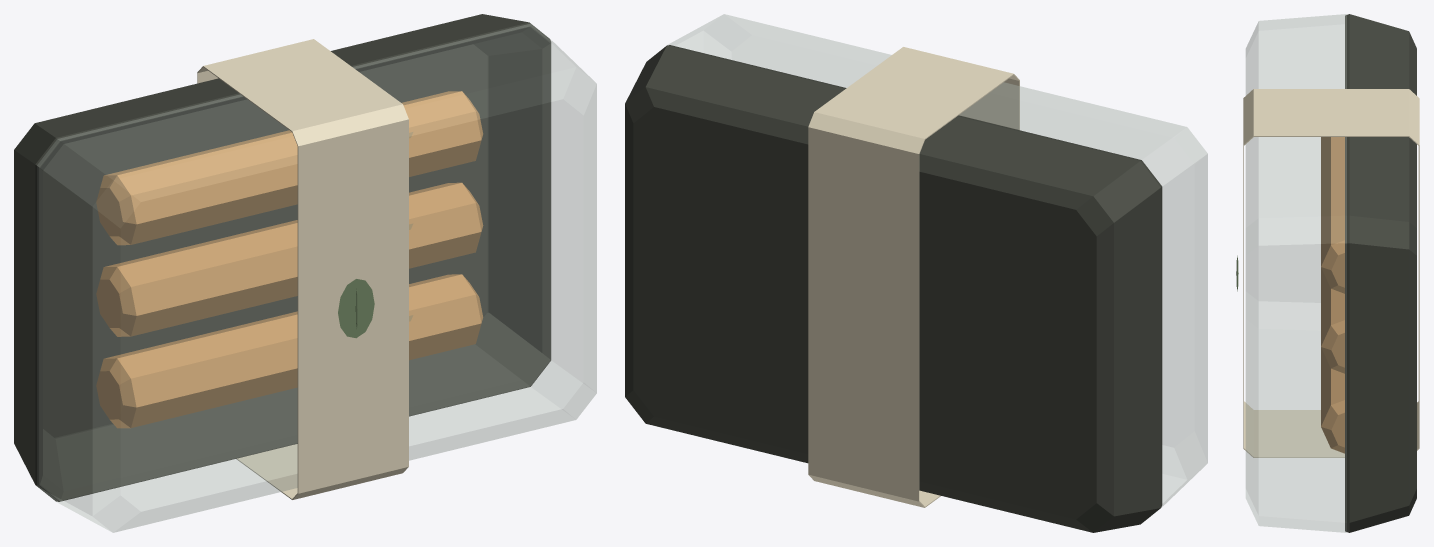
Rendered from spring_rolls.glb.
The picture shows the model from 3 angles, left to right: view 1: azimuth 30°, elevation 25°; view 2: azimuth 150°, elevation 25°; view 3: azimuth 270°, elevation 25°; orthographic projection. The views are drawn at different scales.
Visible parts, largest first — view 1: spring_rolls; view 2: spring_rolls; view 3: spring_rolls.
Part boxes in pixels (box(x1,y1,x2,y2)): spring_rolls: box(14, 14, 596, 532); spring_rolls: box(625, 14, 1207, 532); spring_rolls: box(1236, 14, 1419, 532).
Size of the model in its own units: 0.2 by 0.137 by 0.0706.
